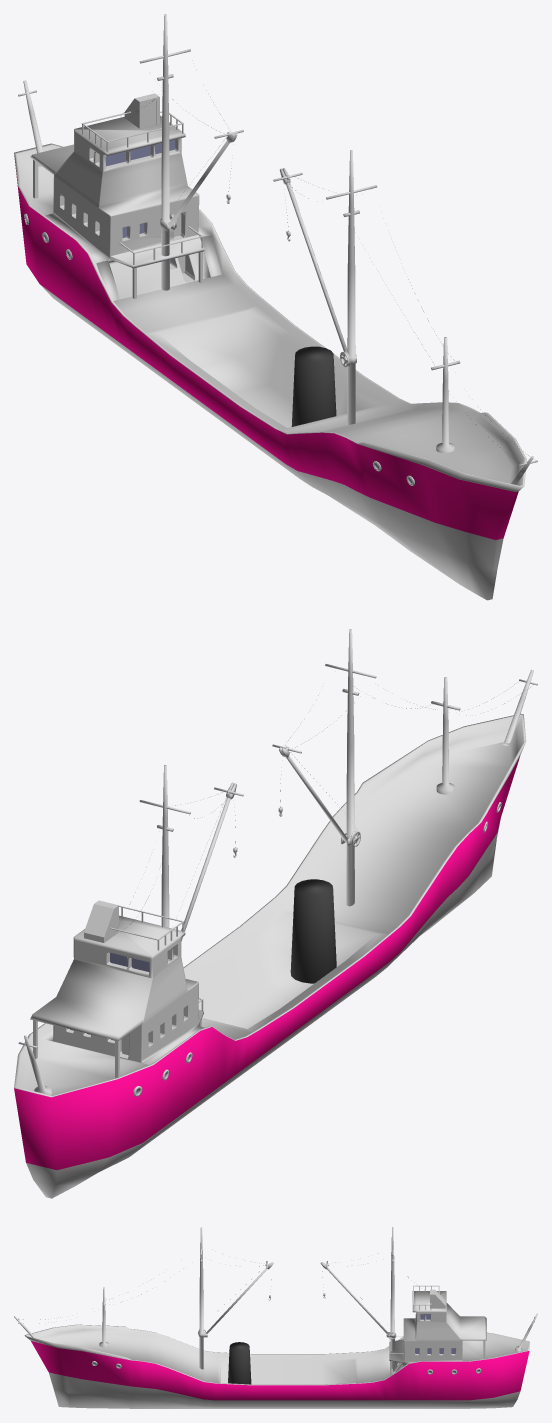
The model's file is D3_Ship7.glb.
3 renders of one model, top to bottom at view 1: azimuth 30°, elevation 25°; view 2: azimuth 150°, elevation 25°; view 3: azimuth 270°, elevation 25°, orthographic. The views are drawn at different scales.
Visible parts, largest first — view 1: Object_6, Object_2, Cylinder, Object_4; view 2: Object_6, Object_2, Cylinder; view 3: Object_6, Object_2, Cylinder.
Part boxes in pixels (x1,y1,x2,y2): Object_6: (14,14,537,600); Object_2: (15,162,518,539); Cylinder: (291,346,336,426); Object_4: (26,139,412,483); Object_6: (14,629,537,1198); Object_2: (14,756,519,1170); Cylinder: (290,879,336,983); Object_6: (14,1227,537,1408); Object_2: (31,1341,529,1400); Cylinder: (228,1342,251,1384).
Bounding box in the file's own units: 6.14 × 16.34 × 43.39.
